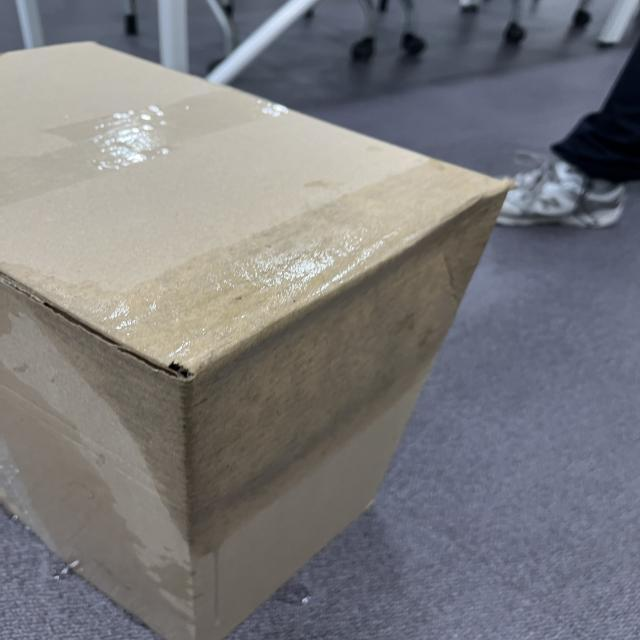wet: (75, 156, 473, 555)
